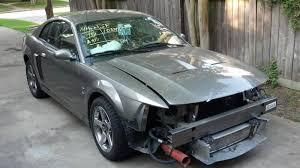bonnet-dent: (138, 43, 242, 93)
front-bumper-dent: (194, 99, 270, 145)
